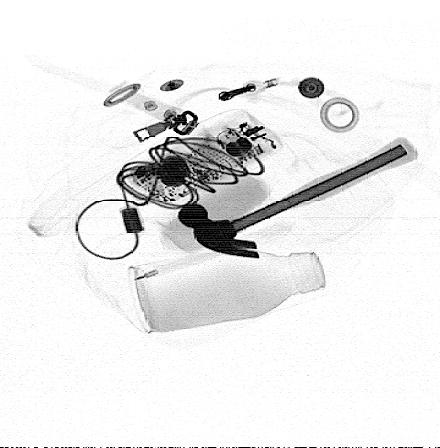Hammer: (177, 135, 420, 259)
